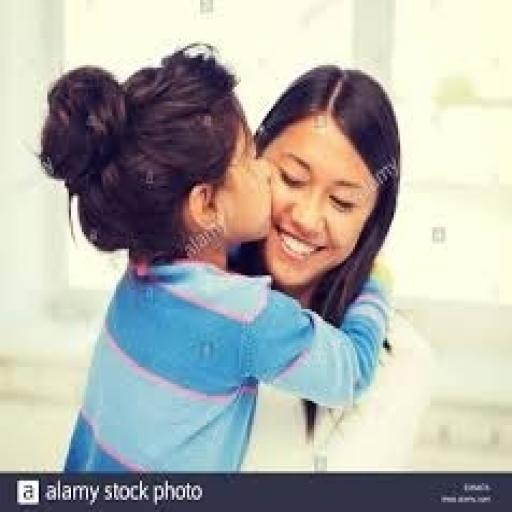hugging: (36, 41, 406, 473)
